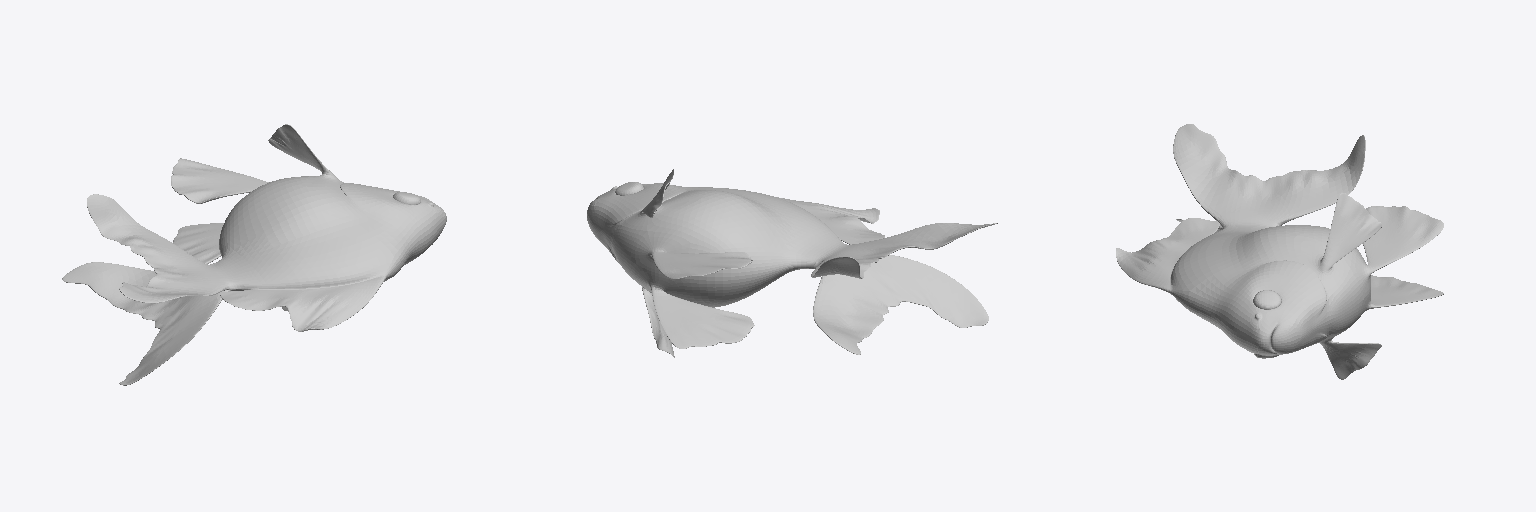
File: fish.obj
3 renders of one model, left to right at view 1: azimuth 30°, elevation 25°; view 2: azimuth 150°, elevation 25°; view 3: azimuth 270°, elevation 25°, orthographic.
Parts seen in each view (by area): view 1: fish; view 2: fish; view 3: fish.
Part boxes in pixels (bbox=[...]): fish: bbox=[62, 124, 446, 385]; fish: bbox=[587, 169, 997, 357]; fish: bbox=[1116, 124, 1443, 379].
Bounding box in the file's own units: 13.13 × 6.45 × 10.27.